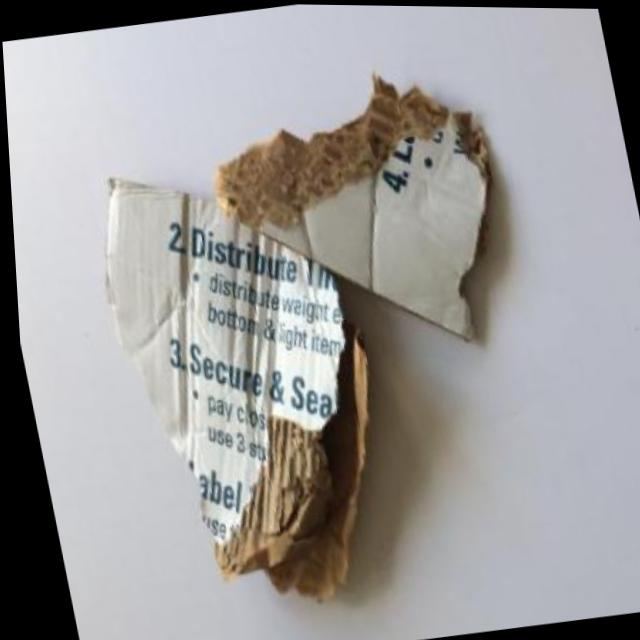box: (70, 132, 415, 640), (185, 32, 575, 386)
